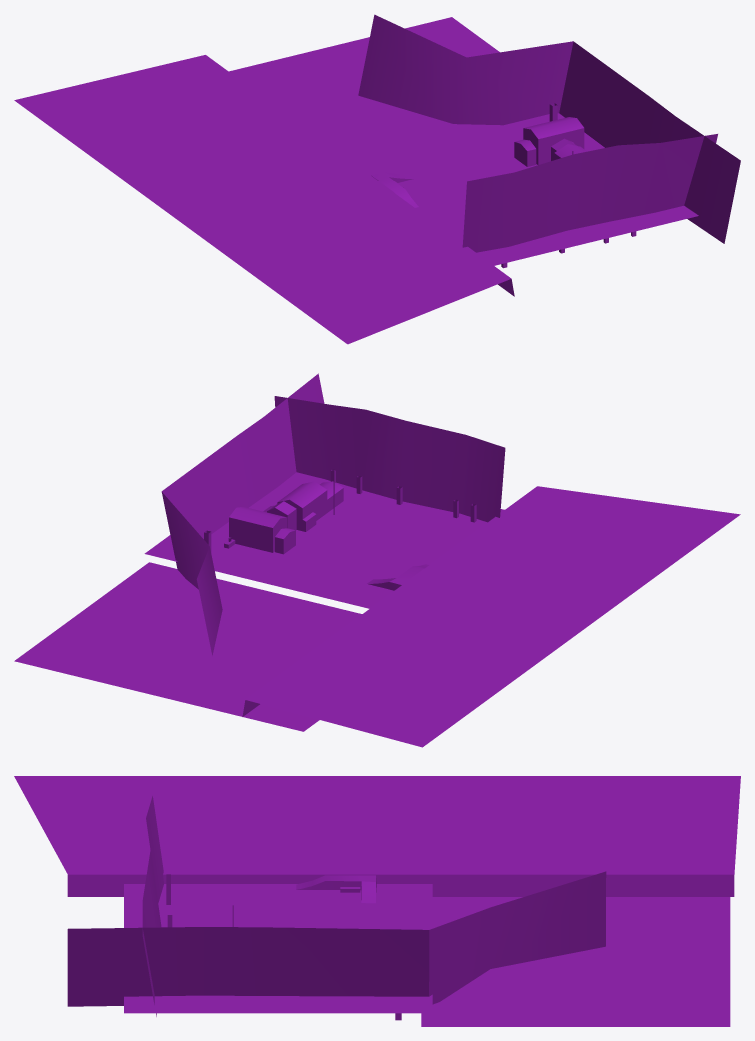
The model's file is collision_tama.x.obj.
3 views of the same model, one above another, from view 1: azimuth 30°, elevation 25°; view 2: azimuth 150°, elevation 25°; view 3: azimuth 270°, elevation 25° (orthographic). The views are drawn at different scales.
Bounding box in the file's own units: 13219 × 3214 × 17640.
